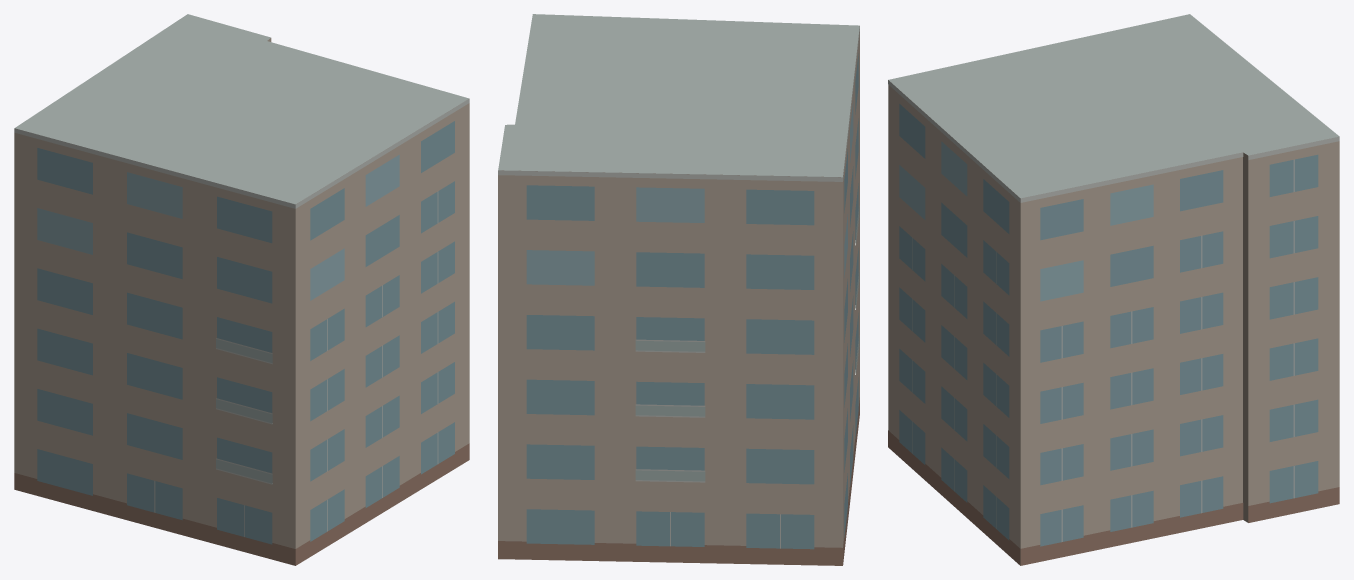
Rendered from survey-upis-32672378.glb.
3 views of the same model, side by side, from view 1: azimuth 30°, elevation 25°; view 2: azimuth 150°, elevation 25°; view 3: azimuth 270°, elevation 25° (orthographic). The views are drawn at different scales.
Visible parts, largest first — view 1: survey-upis-32672378.tmp; view 2: survey-upis-32672378.tmp; view 3: survey-upis-32672378.tmp.
Boxes of the visible parts, <box> form: survey-upis-32672378.tmp: <box>14,14,469,565</box>; survey-upis-32672378.tmp: <box>498,14,859,565</box>; survey-upis-32672378.tmp: <box>888,14,1339,565</box>.
Size of the model in its own units: 21.21 by 19.7 by 21.95.
